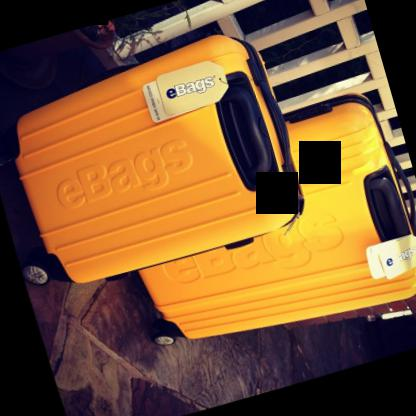suitcase: (0, 32, 304, 287), (139, 92, 416, 342)
